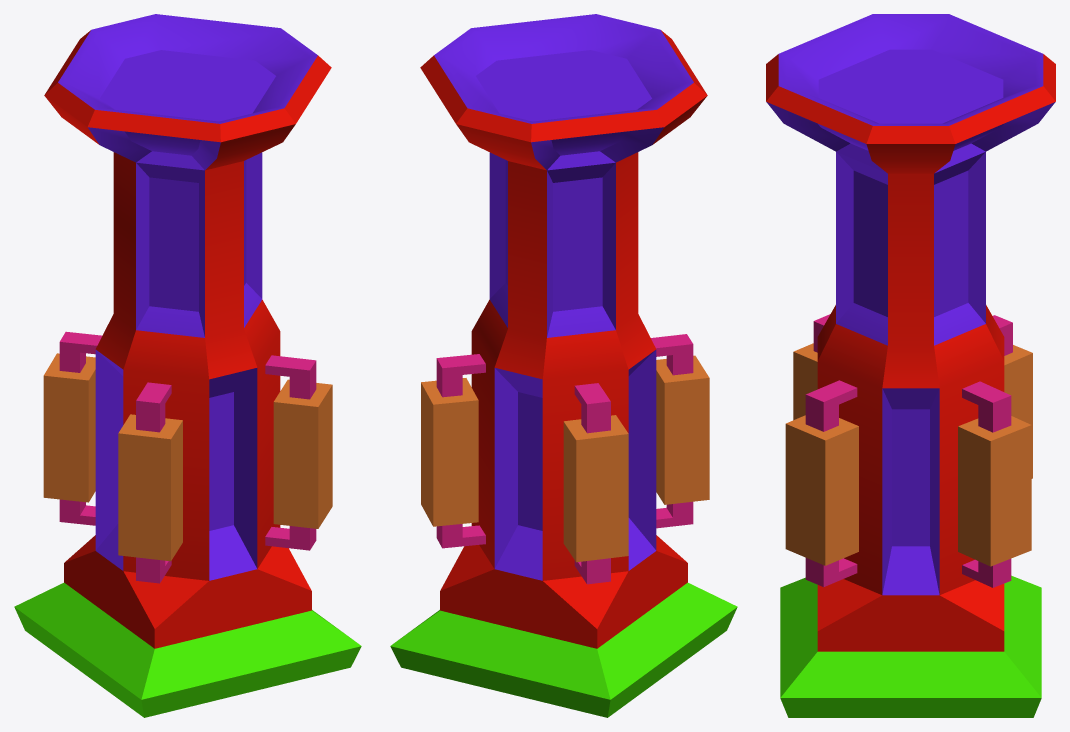
File: BrazierUVID.fbx
3 renders of one model, left to right at view 1: azimuth 30°, elevation 25°; view 2: azimuth 150°, elevation 25°; view 3: azimuth 270°, elevation 25°, orthographic. The views are drawn at different scales.
Visible parts, largest first — view 1: Brazier, Battery; view 2: Brazier, Battery; view 3: Brazier, Battery.
Part boxes in pixels (x1=…): Brazier: x1=14, y1=14, x2=361, y2=717; Battery: x1=43, y1=331, x2=332, y2=583; Brazier: x1=390, y1=14, x2=737, y2=717; Battery: x1=421, y1=334, x2=709, y2=584; Brazier: x1=766, y1=14, x2=1055, y2=717; Battery: x1=785, y1=314, x2=1032, y2=587.
Bounding box in the file's own units: 311 × 706 × 311.
